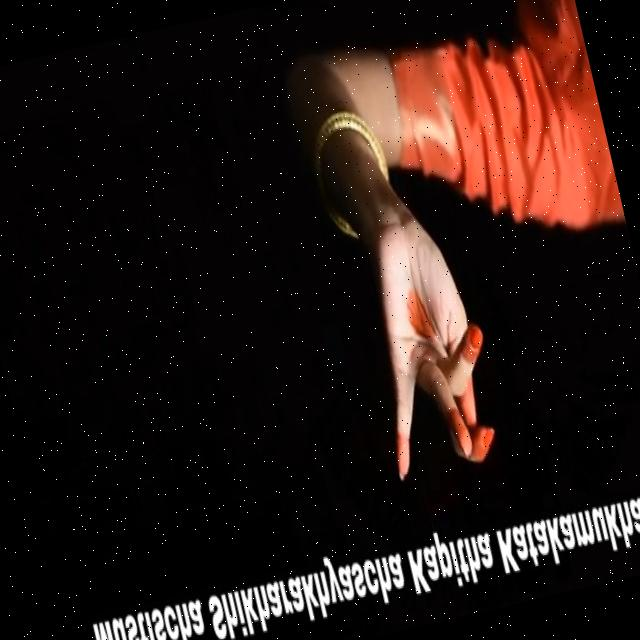Katakamukha: (303, 175, 532, 537)
bangle: (286, 92, 404, 215)
text: (77, 461, 640, 640)
